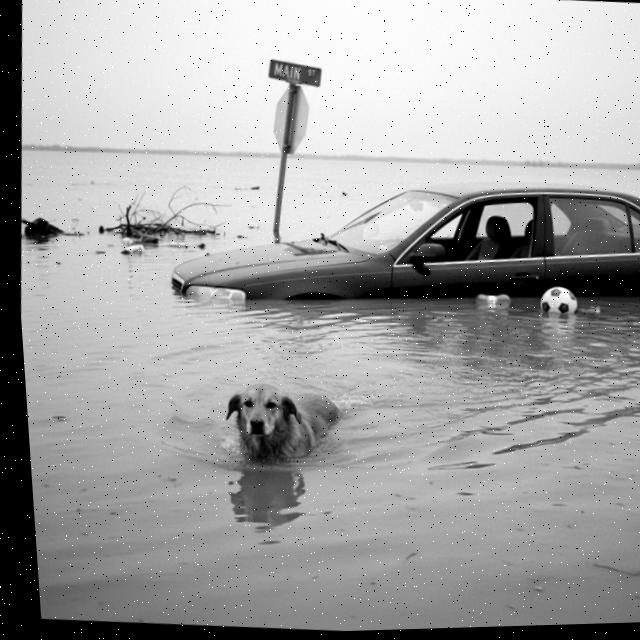dog: (202, 360, 358, 497)
